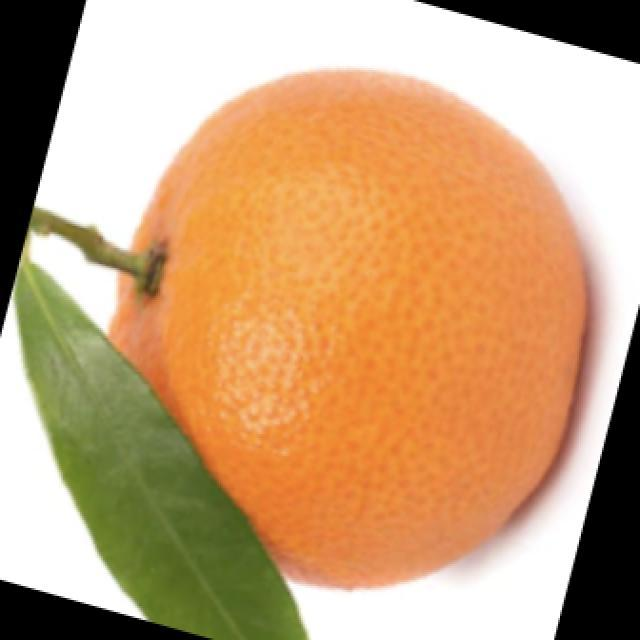Orange: (107, 66, 589, 590)
